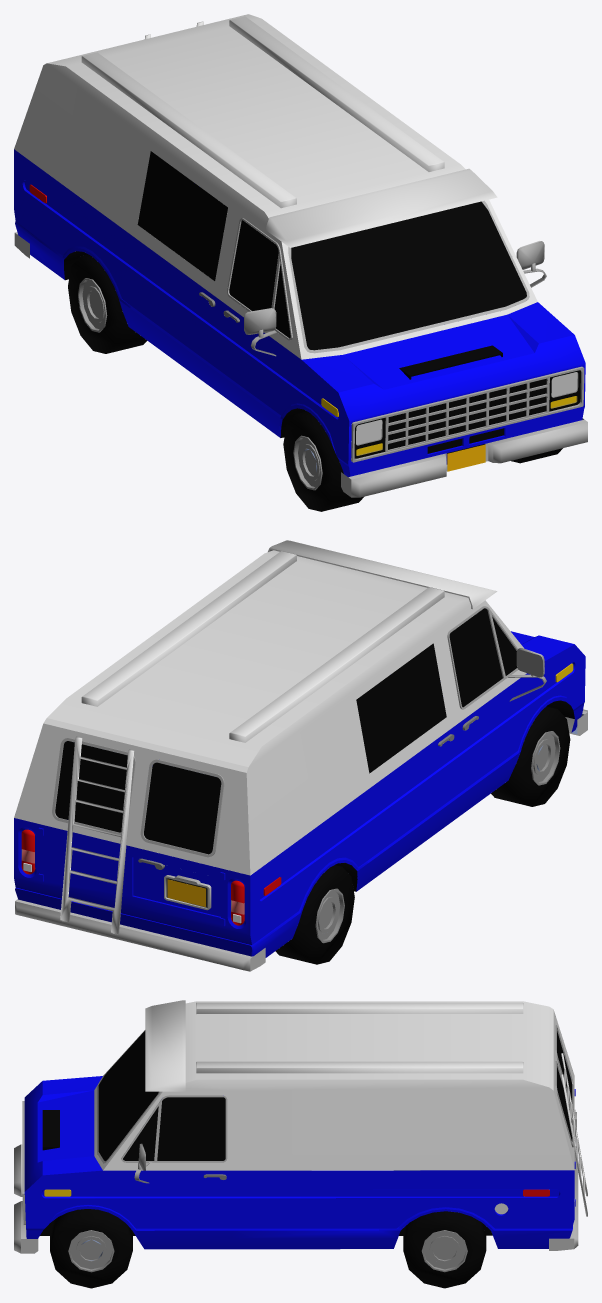
Rendered from econo.glb.
3 views of the same model, one above another, from view 1: azimuth 30°, elevation 25°; view 2: azimuth 150°, elevation 25°; view 3: azimuth 270°, elevation 25° (orthographic). The views are drawn at different scales.
Visible parts, largest first — view 1: part16, part2, part6, part9, part27, part19, wheel_RF, wheel_RB, part21, part3, part11, part14 (+1 smaller); view 2: part16, part2, part6, part19, wheel_RB, wheel_RF, part9, part4, part25; view 3: part16, part2, part6, wheel_LF, wheel_LB, part9, part19, part27.
Boxes of the visible parts, <box> form: part16: <box>14,14,537,359</box>; part2: <box>14,149,585,477</box>; part6: <box>64,151,580,458</box>; part9: <box>227,200,584,462</box>; part27: <box>381,345,547,453</box>; part19: <box>14,232,587,497</box>; wheel_RF: <box>283,411,363,511</box>; wheel_RB: <box>68,254,147,353</box>; part21: <box>244,241,546,356</box>; part3: <box>251,241,577,444</box>; part11: <box>356,372,578,445</box>; part14: <box>388,378,547,450</box>; part16: <box>14,540,526,934</box>; part2: <box>14,631,585,957</box>; part6: <box>55,608,574,891</box>; part19: <box>15,709,587,971</box>; wheel_RB: <box>275,865,354,964</box>; wheel_RF: <box>491,706,570,806</box>; part9: <box>52,606,542,857</box>; part4: <box>21,829,281,925</box>; part25: <box>167,879,205,906</box>; part16: <box>94,1000,587,1216</box>; part2: <box>24,1076,575,1249</box>; part6: <box>40,1030,572,1235</box>; wheel_LF: <box>50,1209,132,1288</box>; wheel_LB: <box>403,1211,486,1288</box>; part9: <box>22,1025,573,1224</box>; part19: <box>14,1109,578,1253</box>; part27: <box>42,1110,59,1150</box>.
Size of the model in its own units: 2.67 by 2.14 by 5.4.
